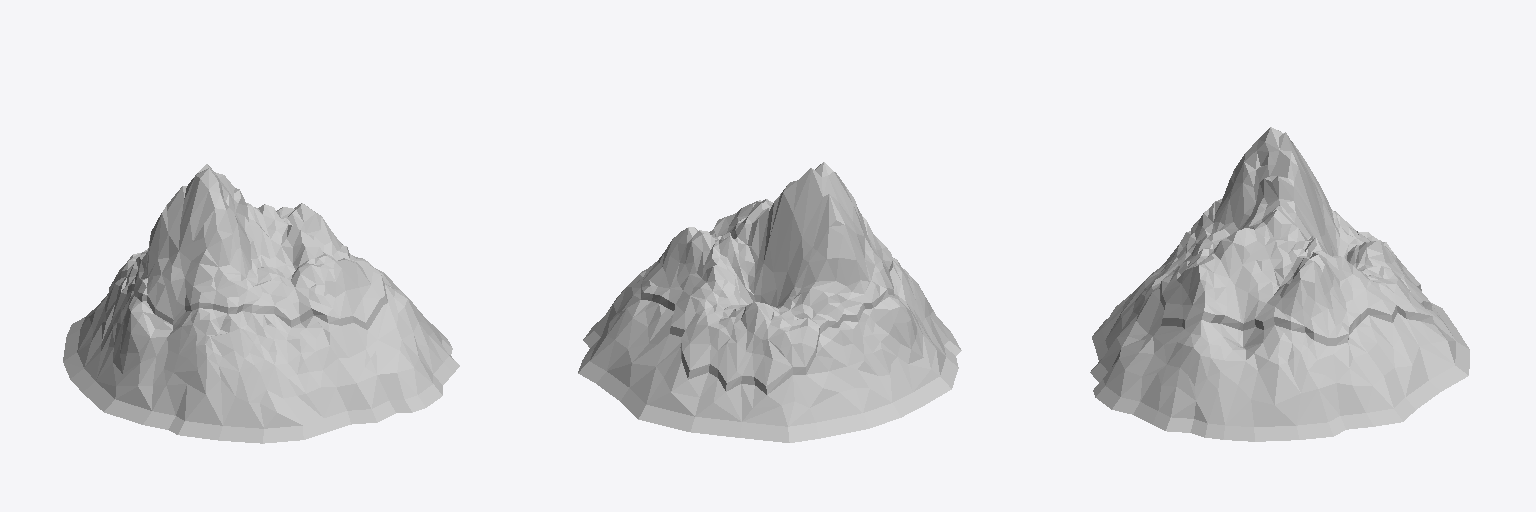
Rendered from Mountain1.obj.
The picture shows the model from 3 angles: view 1: azimuth 30°, elevation 25°; view 2: azimuth 150°, elevation 25°; view 3: azimuth 270°, elevation 25°; orthographic projection.
Parts seen in each view (by area): view 1: PP_Forest_Mountain_Moss_01.002; view 2: PP_Forest_Mountain_Moss_01.002; view 3: PP_Forest_Mountain_Moss_01.002.
Part boxes in pixels (left/top/right/bottom): PP_Forest_Mountain_Moss_01.002: left=63, top=164, right=459, bottom=443; PP_Forest_Mountain_Moss_01.002: left=578, top=162, right=961, bottom=442; PP_Forest_Mountain_Moss_01.002: left=1090, top=127, right=1469, bottom=441.
Size of the model in its own units: 35.48 by 20.94 by 34.73.